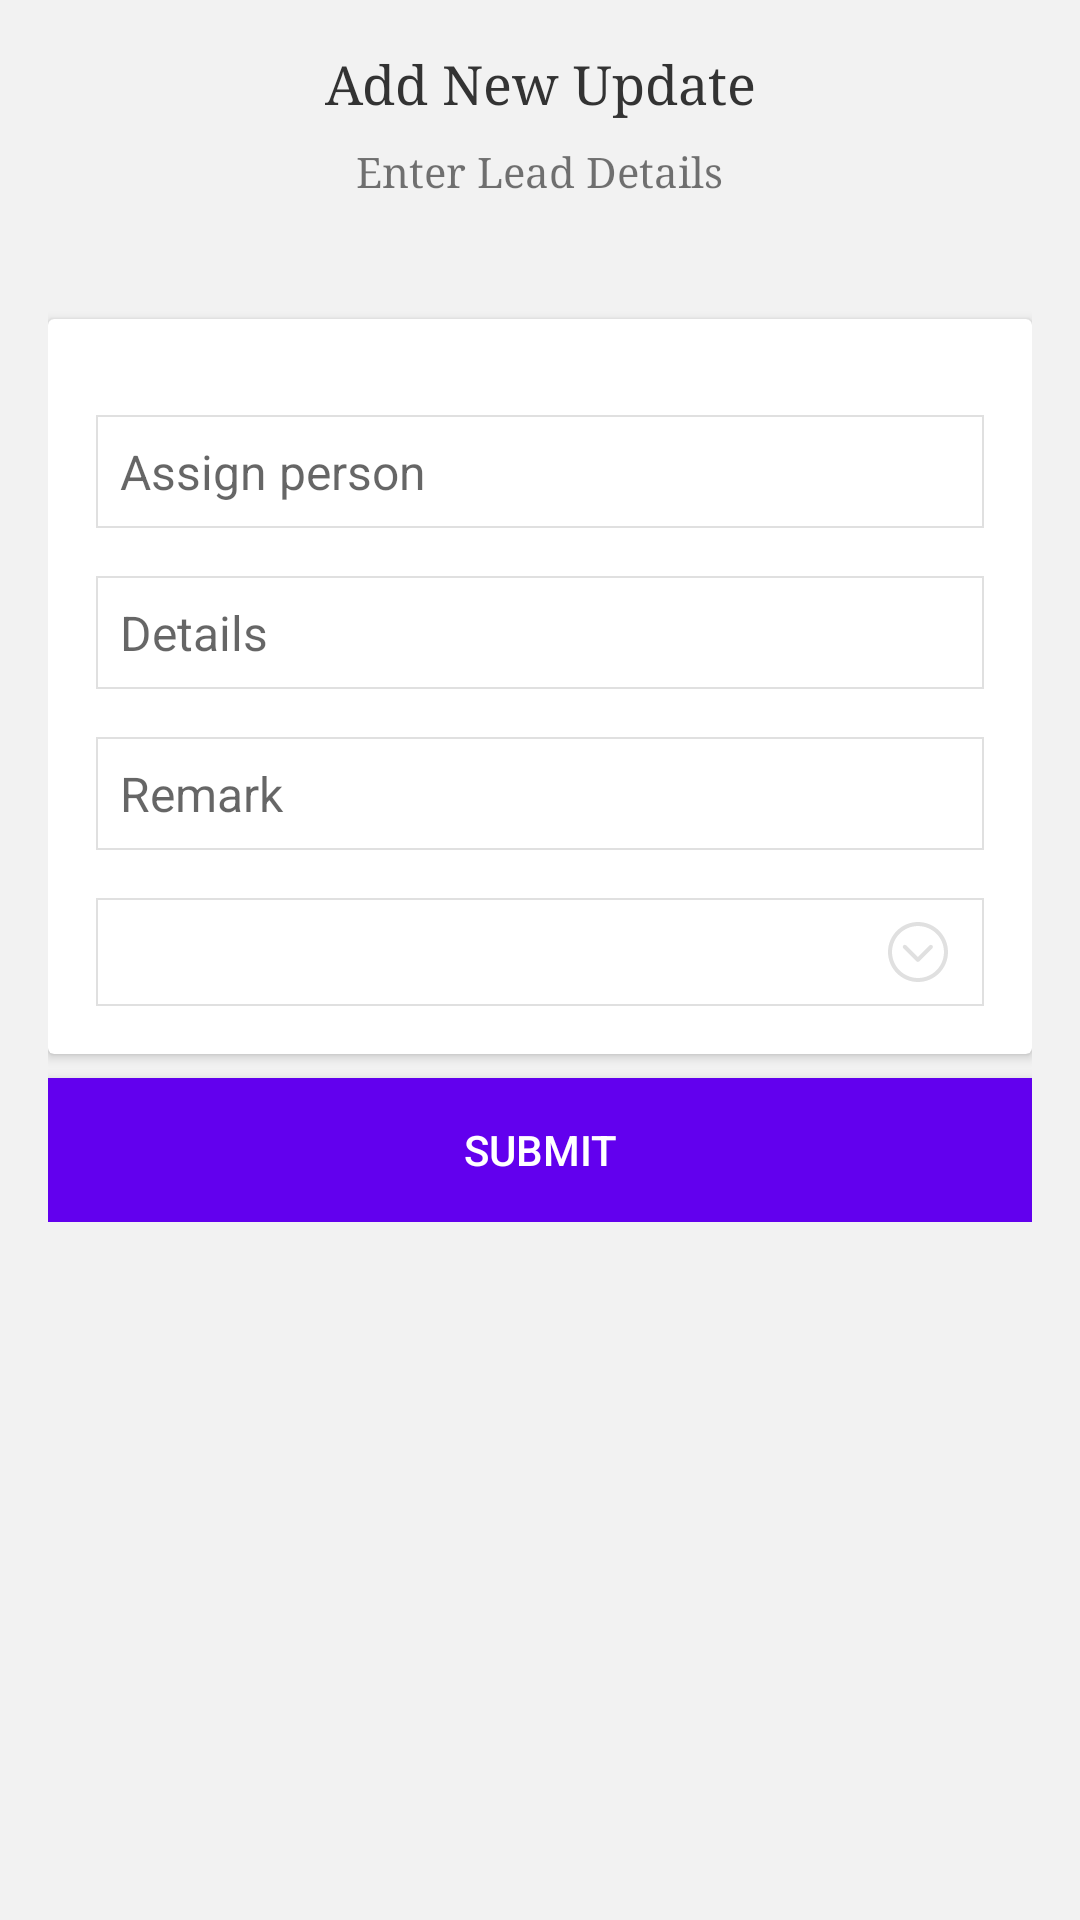

Screen size 1080 x 1920. Icon name, then its center in pixels as (x,y):
down arrow in circle: (918,952)
